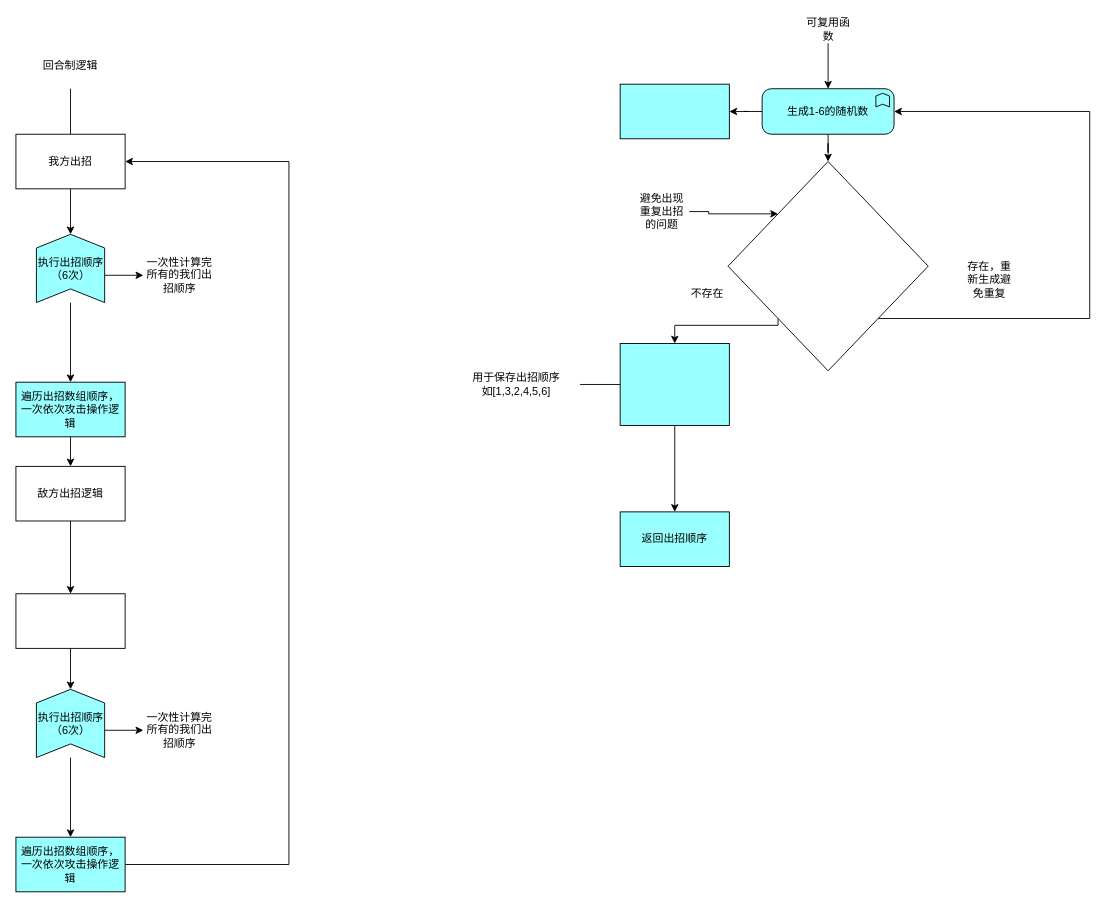
The diagram is 1113 pixels wide and 907 high, and some of its shapes have lost their labels. The shapes that lost their labels are listed below. From the top down, each one's centre as x and y in pixels, then its label:
pixel 674 111: 函数名：出招顺序
pixel 827 266: 判断临时出招顺序数组里时候已经存在生成过的随机数
pixel 674 384: 将生成的随机数存入临时数组（我方出招顺序）
pixel 70 620: 清空临时出招数组，准备用来生成敌人出招顺序
